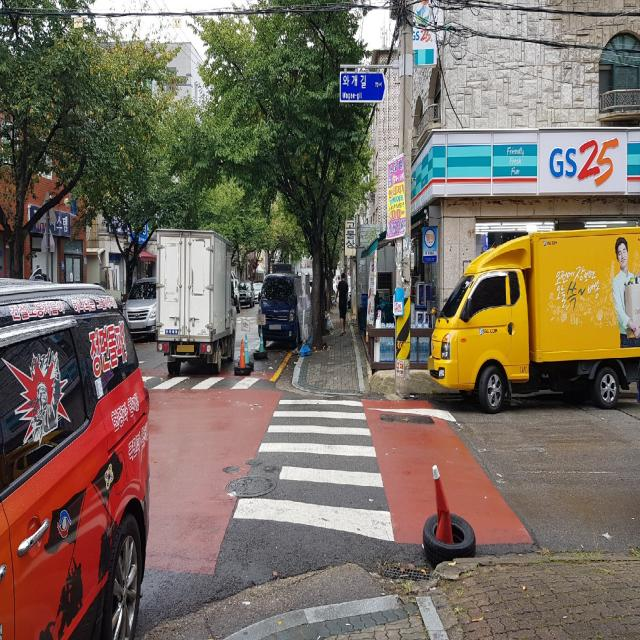횡단보도: (232, 396, 395, 544), (153, 378, 260, 390)
